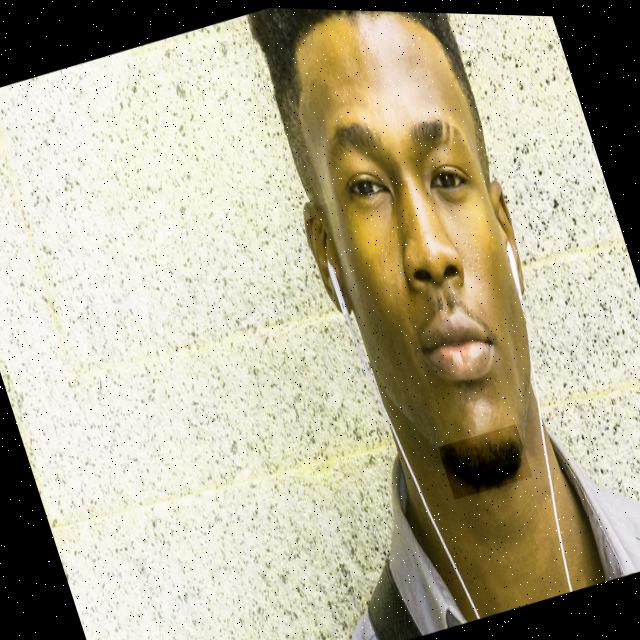beard: (441, 437, 524, 487)
hair: (249, 6, 376, 191)
